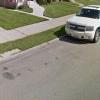Car: (61, 2, 100, 48)
